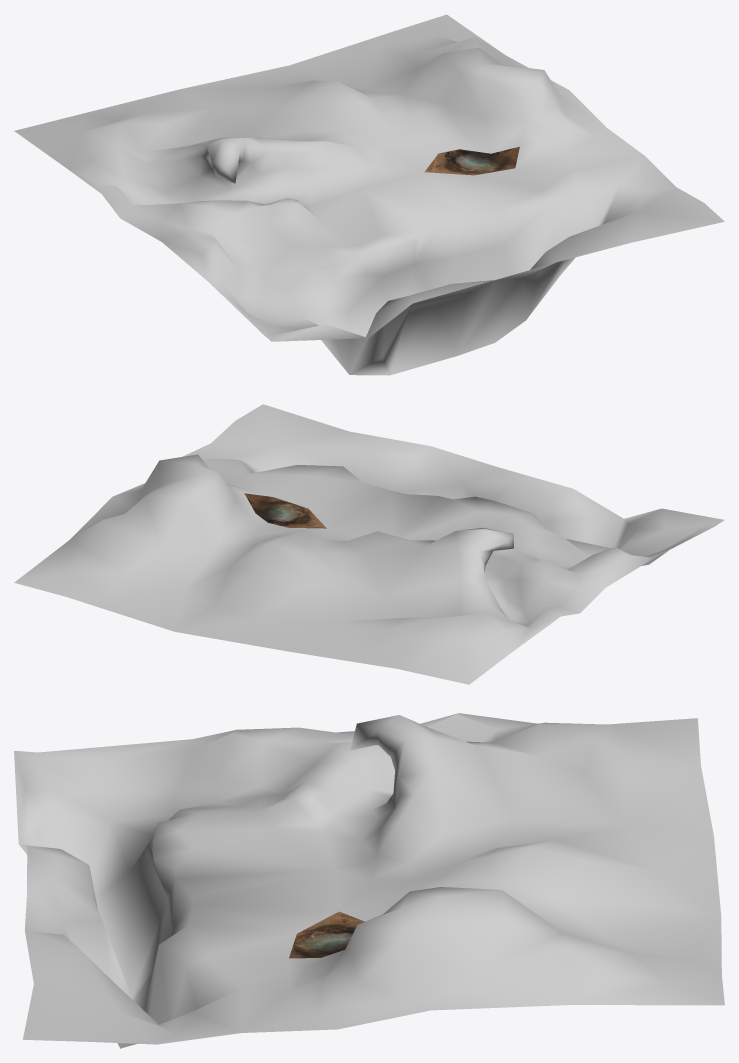
Rendered from Terrain_Gobi.FBX.
3 views of the same model, one above another, from view 1: azimuth 30°, elevation 25°; view 2: azimuth 150°, elevation 25°; view 3: azimuth 270°, elevation 25° (orthographic). The views are drawn at different scales.
Parts seen in each view (by area): view 1: Terrain_Gobi; view 2: Terrain_Gobi; view 3: Terrain_Gobi.
Part boxes in pixels (x1=…): Terrain_Gobi: x1=14, y1=14, x2=724, y2=375; Terrain_Gobi: x1=14, y1=404, x2=724, y2=684; Terrain_Gobi: x1=14, y1=713, x2=724, y2=1048.
Size of the model in its own units: 38520 by 14160 by 38318.
